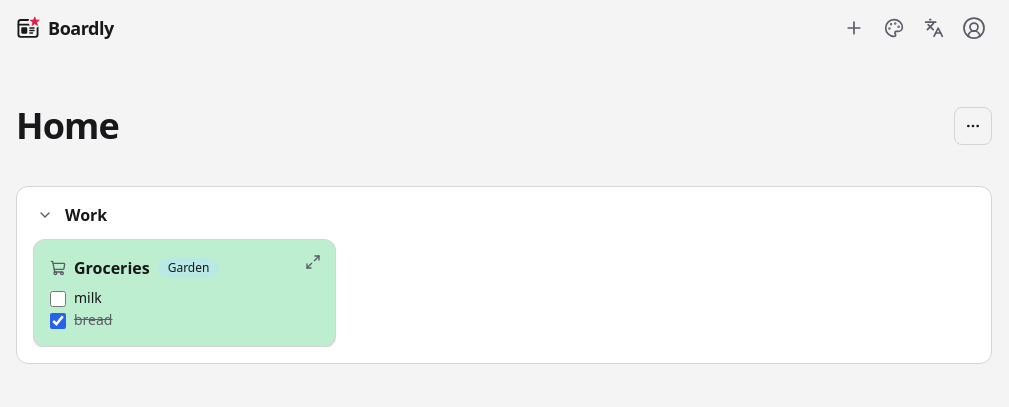
the note widget › shows the current note when it was changed elsewhere
Expected: the button named "Open Groceries" is shown, 299,248 -> 327,276
Click the checkbox named "milk": click(58, 299) 50,291 -> 66,307
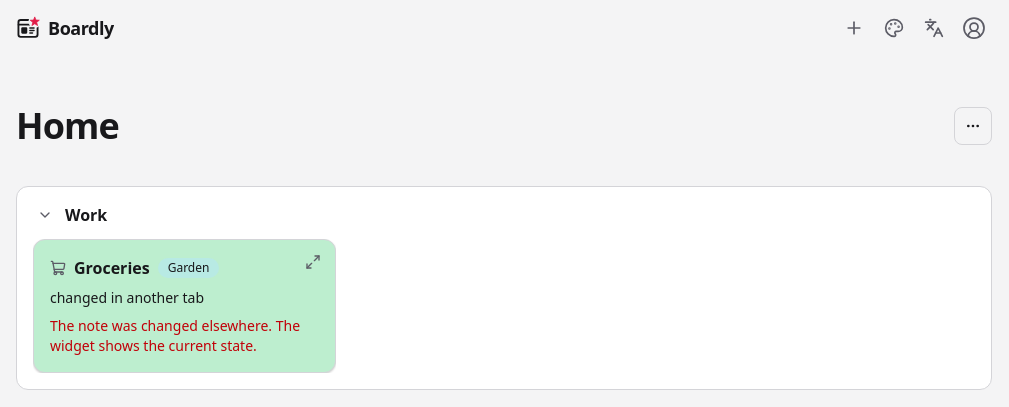
Now the text "changed in another tab" is shown, box 50,288 -> 204,307
Now the message reads "The note was changed elsewhere. The widget shows the current state.", box 50,316 -> 300,355
